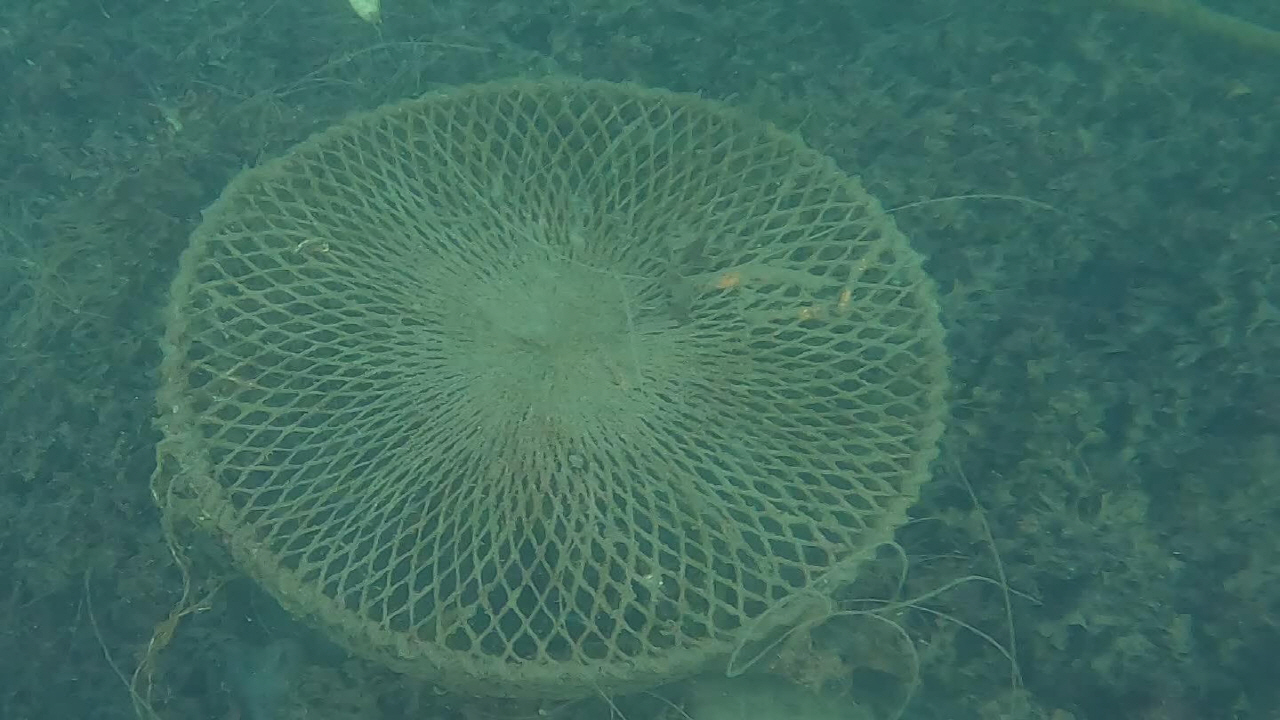circular fish trap: (158, 73, 949, 702)
